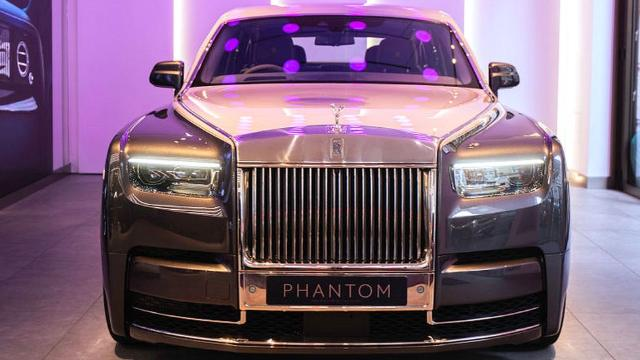rolls-royce: (99, 4, 571, 356)
